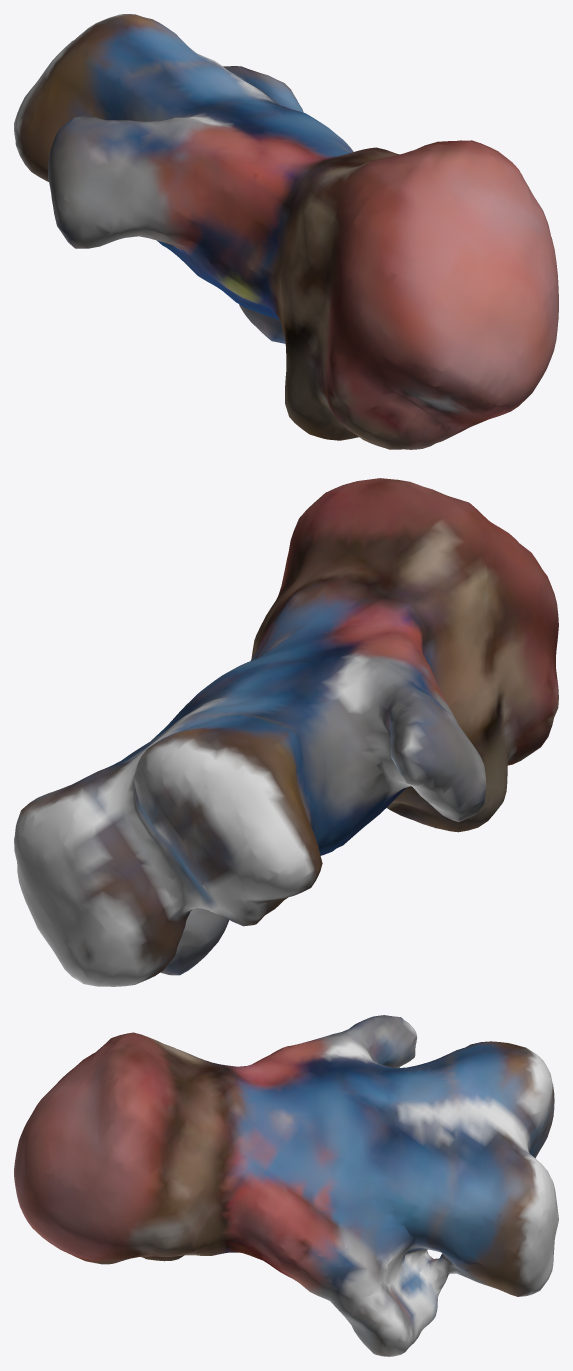
Rendered from mario.glb.
3 renders of one model, top to bottom at view 1: azimuth 30°, elevation 25°; view 2: azimuth 150°, elevation 25°; view 3: azimuth 270°, elevation 25°, orthographic. The views are drawn at different scales.
Size of the model in its own units: 0.6074 by 0.5528 by 1.
